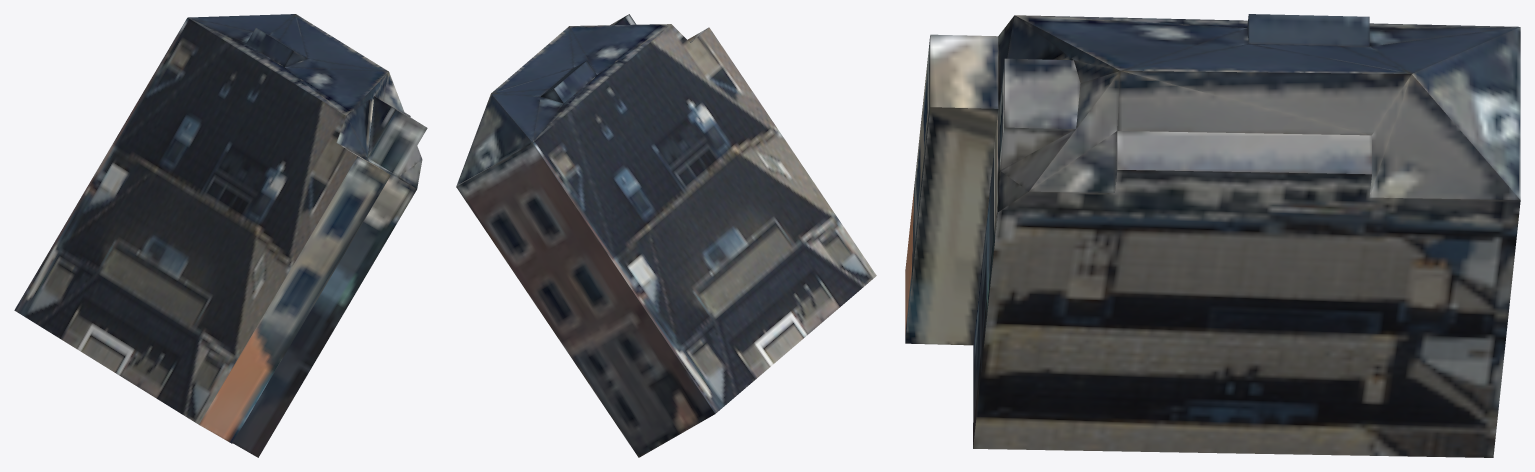
The picture shows the model from 3 angles, left to right: view 1: azimuth 30°, elevation 25°; view 2: azimuth 150°, elevation 25°; view 3: azimuth 270°, elevation 25°; orthographic projection. The views are drawn at different scales.
Parts seen in each view (by area): view 1: BAG_0599100000688751 (×6); view 2: BAG_0599100000688751 (×6); view 3: BAG_0599100000688751 (×5).
Boxes of the visible parts, x1,y1,x2,y2 form: BAG_0599100000688751 (×6): (14, 14, 427, 457); BAG_0599100000688751 (×6): (456, 14, 876, 457); BAG_0599100000688751 (×5): (905, 14, 1520, 457).
Bounding box in the file's own units: 12.35 × 13.61 × 13.87.
Materials: 1 (1 with a texture image).
